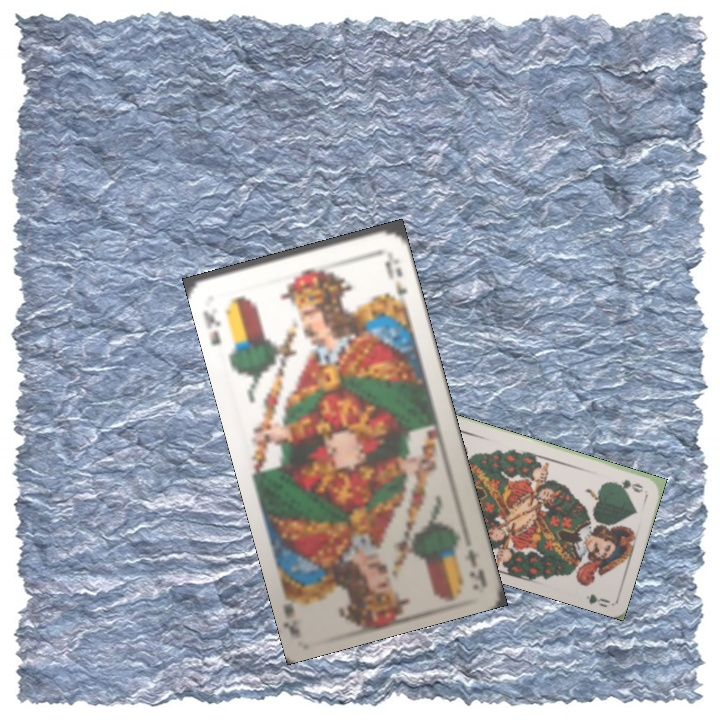EK: (461, 545, 489, 585), (199, 306, 224, 348)
GO: (607, 475, 645, 495)
